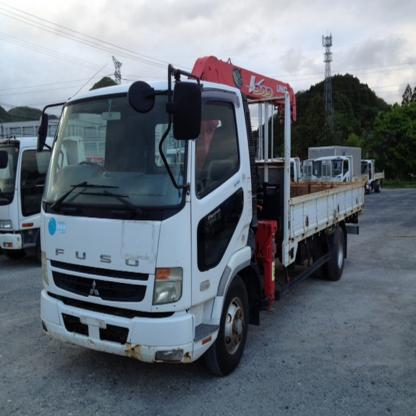truck: (38, 58, 365, 378)
